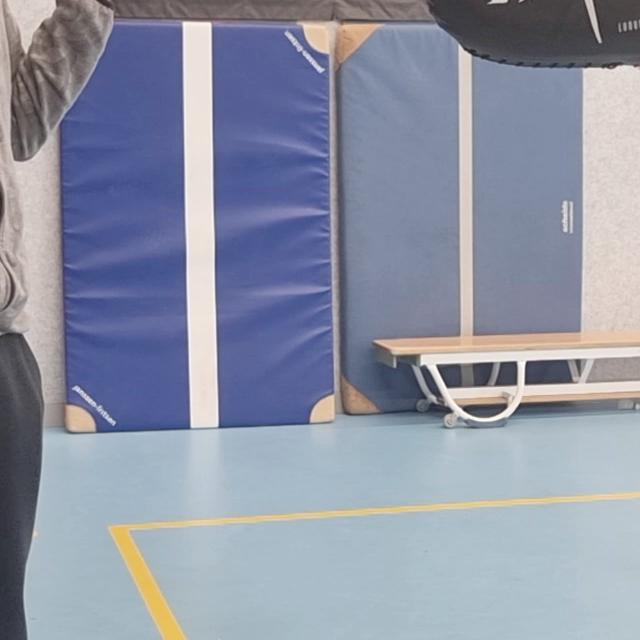paddle: (418, 0, 640, 70)
